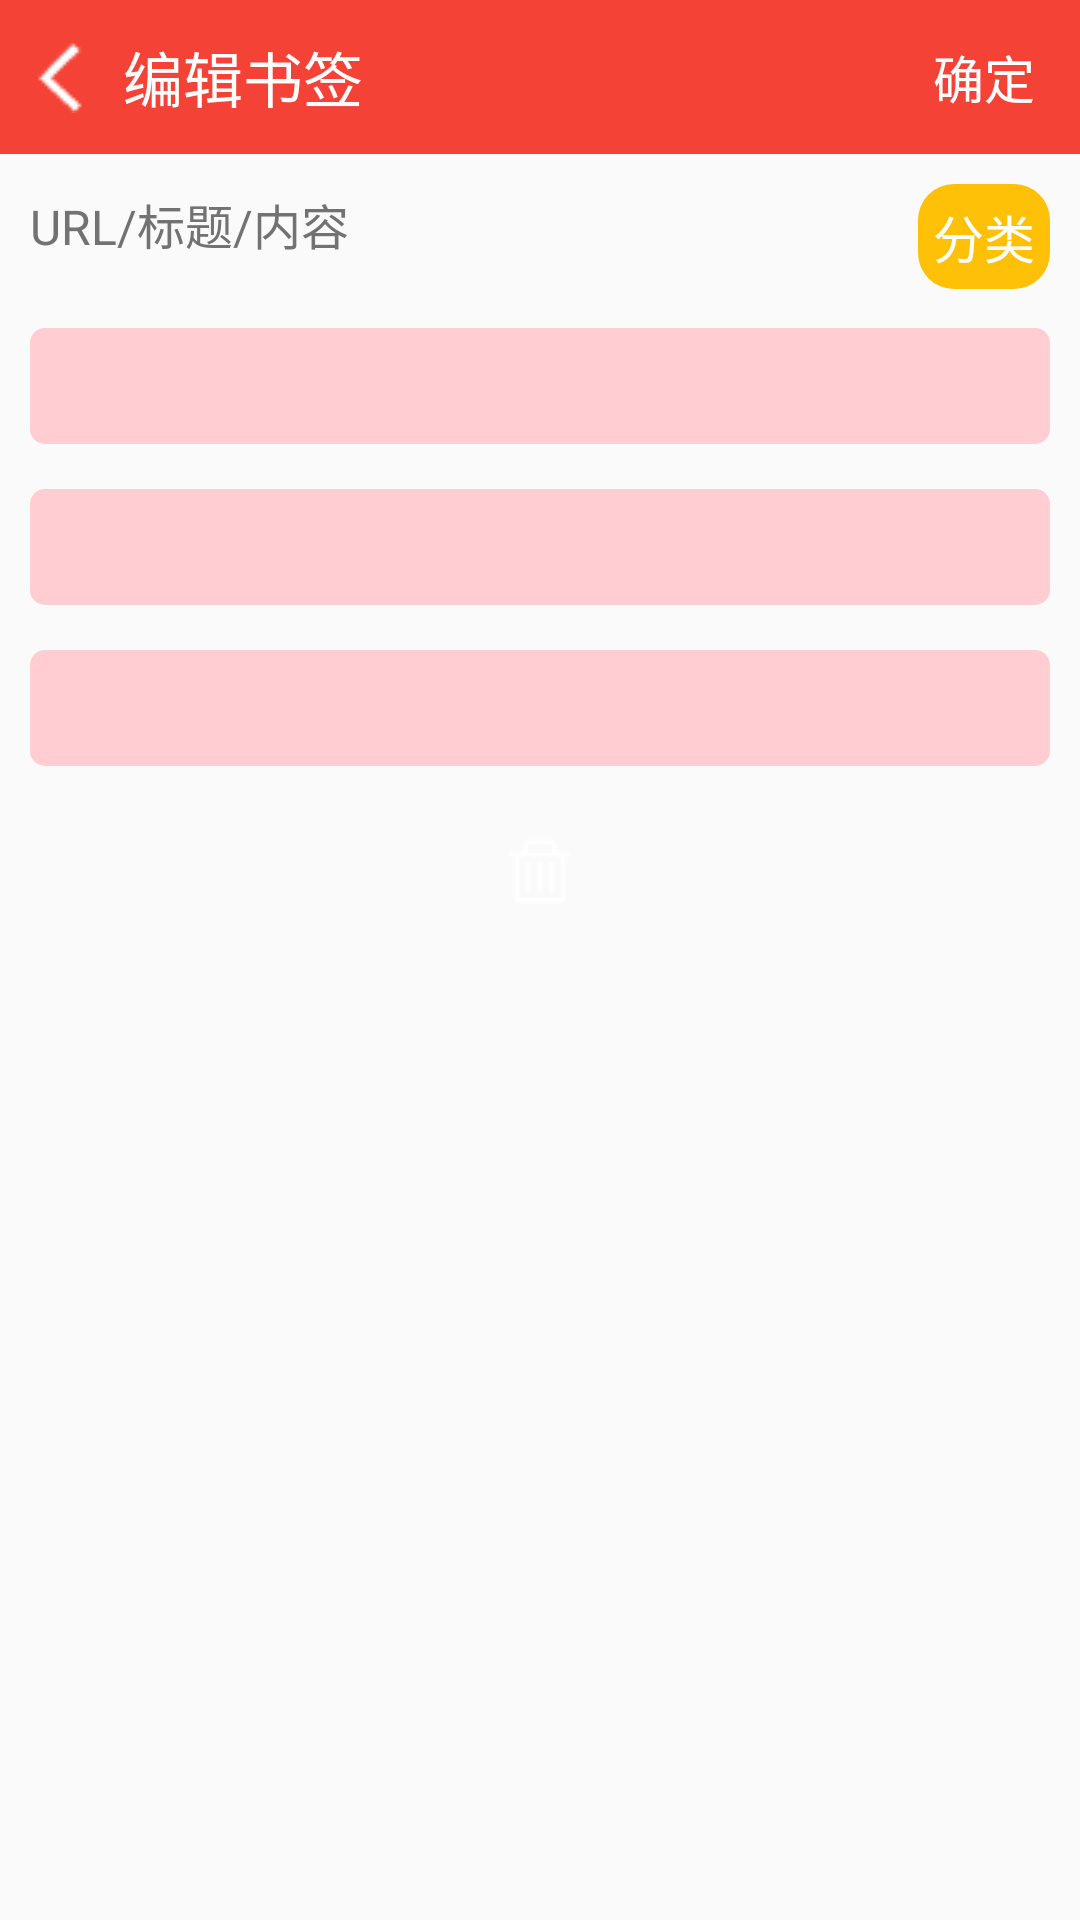

Where to tap for icons on this 1080 × 1920 app screen, as [x,y]:
left: [60,78]
